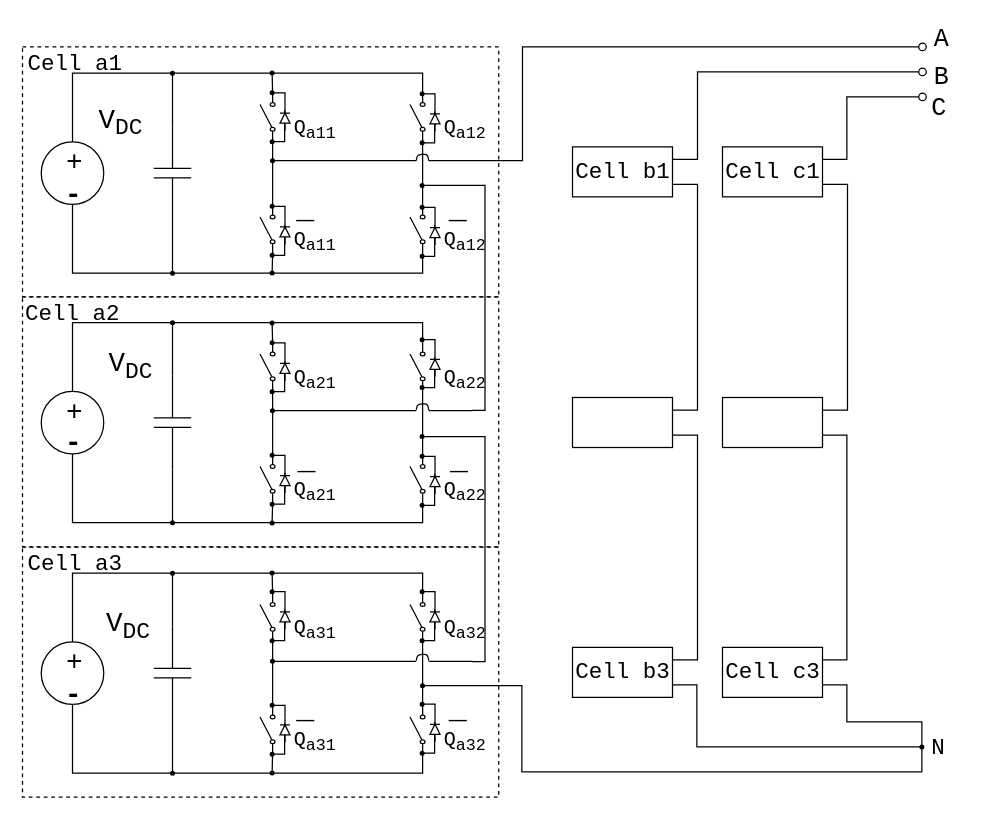
The diagram is 990 pixels wide and 819 high, and some of its shapes have lost their labels. The shapes that lost their labels are listed below. From the top down, each one's box as (x1, y1, x2, y2) in pixels, then its label:
(571, 396, 672, 448): Cell b2
(721, 396, 822, 448): Cell c2
